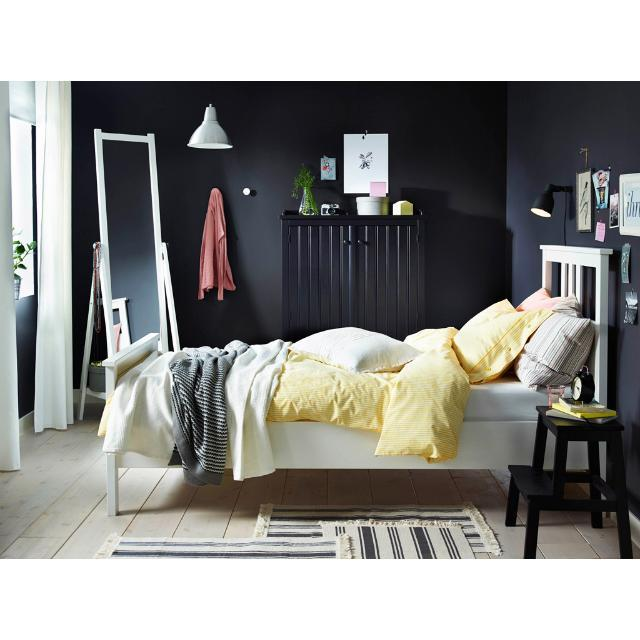bed: (100, 246, 610, 515)
clock: (571, 366, 595, 403)
curtain: (35, 81, 74, 432), (0, 81, 20, 470)
dresser: (281, 216, 425, 340)
lamp: (531, 184, 572, 217)
light: (188, 81, 232, 148)
pillow: (452, 300, 554, 384), (290, 327, 420, 374)
plant: (291, 165, 318, 215)
rug: (95, 502, 501, 558)
side-table: (505, 406, 632, 558)
wall-art: (344, 134, 389, 193), (620, 174, 640, 236), (576, 168, 592, 232), (591, 168, 609, 209), (624, 292, 638, 324), (621, 244, 631, 284), (609, 192, 619, 228), (321, 156, 336, 179), (595, 222, 605, 242)
